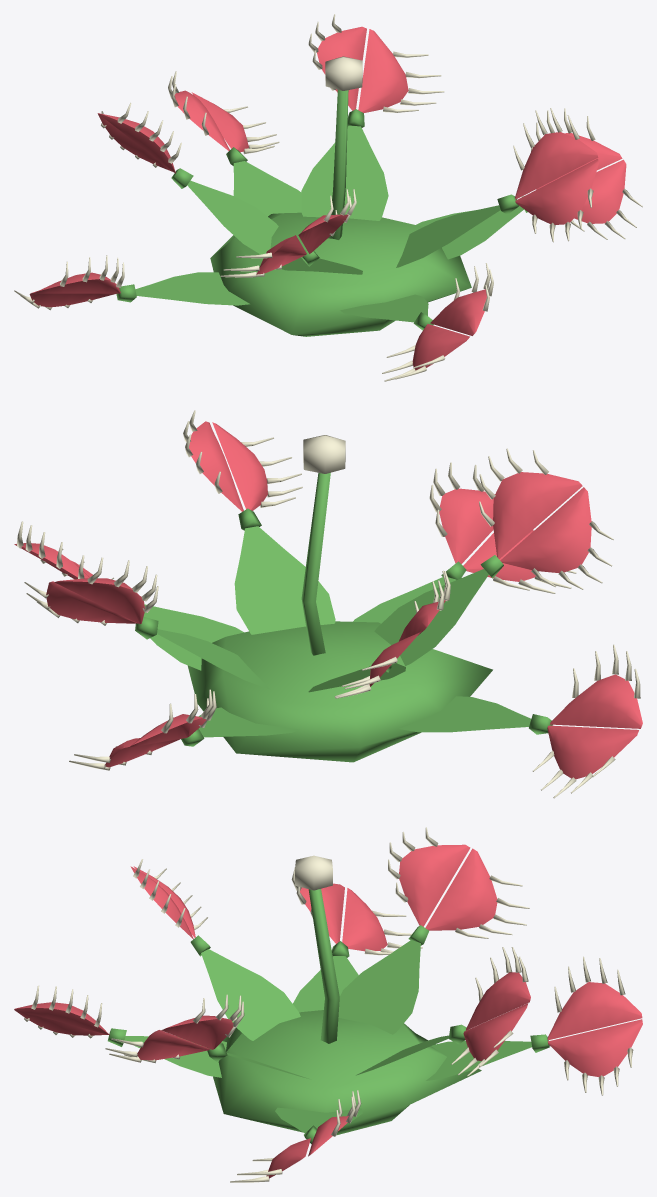
Rendered from carnivorous_venus_flytrap.glb.
3 views of the same model, one above another, from view 1: azimuth 30°, elevation 25°; view 2: azimuth 150°, elevation 25°; view 3: azimuth 270°, elevation 25° (orthographic). The views are drawn at different scales.
Parts seen in each view (by area): view 1: Flora_Venus_Flytrap; view 2: Flora_Venus_Flytrap; view 3: Flora_Venus_Flytrap.
Boxes of the visible parts, x1,y1,x2,y2 form: Flora_Venus_Flytrap: [14, 14, 642, 381]; Flora_Venus_Flytrap: [14, 410, 642, 798]; Flora_Venus_Flytrap: [14, 827, 642, 1182].
Bounding box in the file's own units: 1.07 × 0.45 × 1.02.
